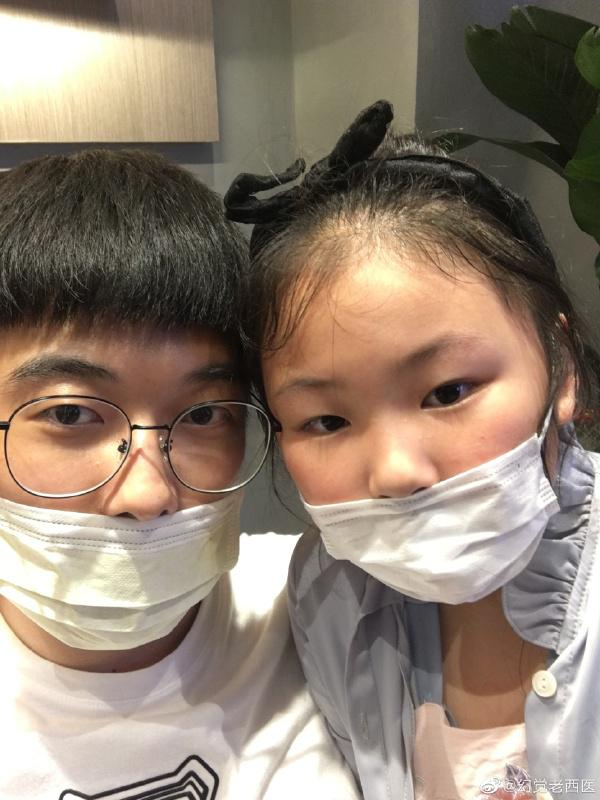WRONG: (264, 295, 551, 606), (1, 327, 249, 661)
